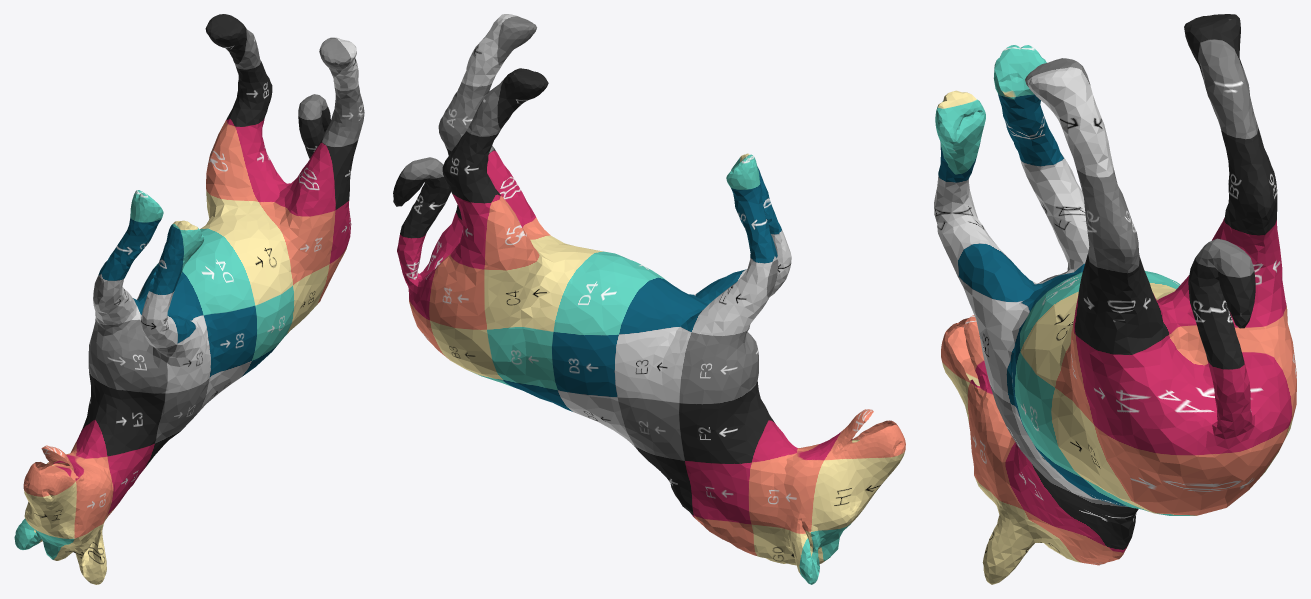
Rendered from horse_09.obj.
3 renders of one model, left to right at view 1: azimuth 30°, elevation 25°; view 2: azimuth 150°, elevation 25°; view 3: azimuth 270°, elevation 25°, orthographic. The views are drawn at different scales.
Visible parts, largest first — view 1: horse_09_export; view 2: horse_09_export; view 3: horse_09_export.
Boxes of the visible parts, x1,y1,x2,y2 form: horse_09_export: (14, 14, 364, 584); horse_09_export: (393, 14, 905, 584); horse_09_export: (934, 14, 1296, 584).
Size of the model in its own units: 0.8115 by 0.9212 by 0.4211.
